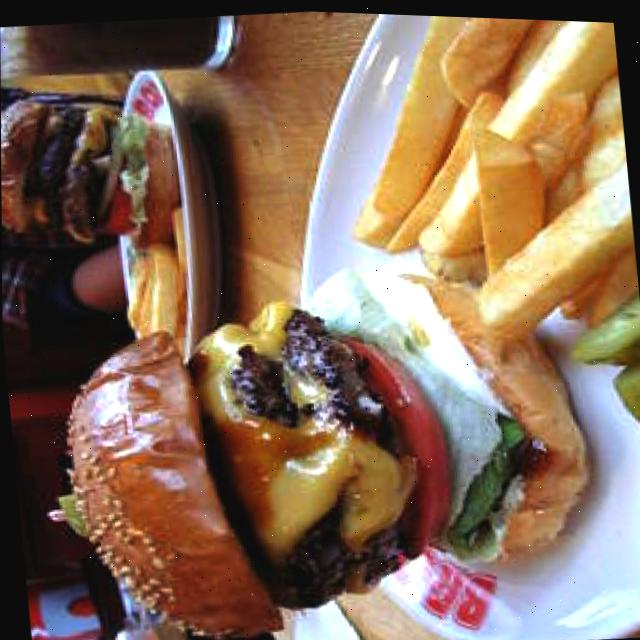汉堡快餐: (118, 182, 640, 640), (19, 511, 111, 640)
炸货点心: (1, 166, 272, 408), (46, 497, 258, 587)
